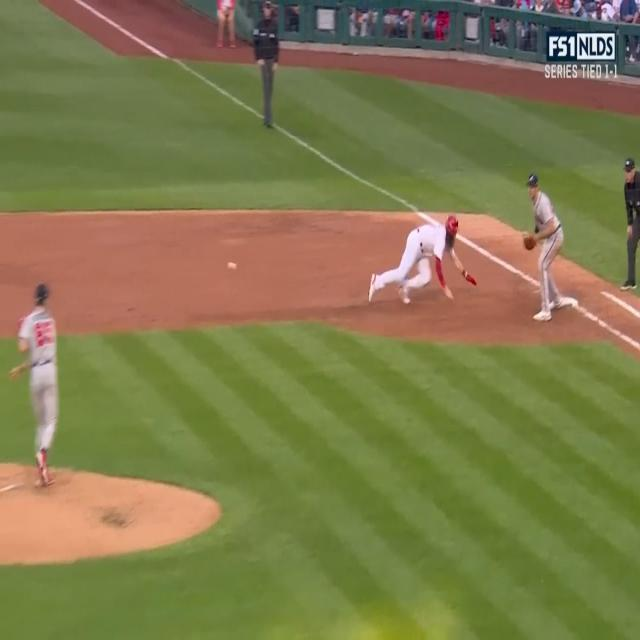baseball: (226, 260, 238, 272)
